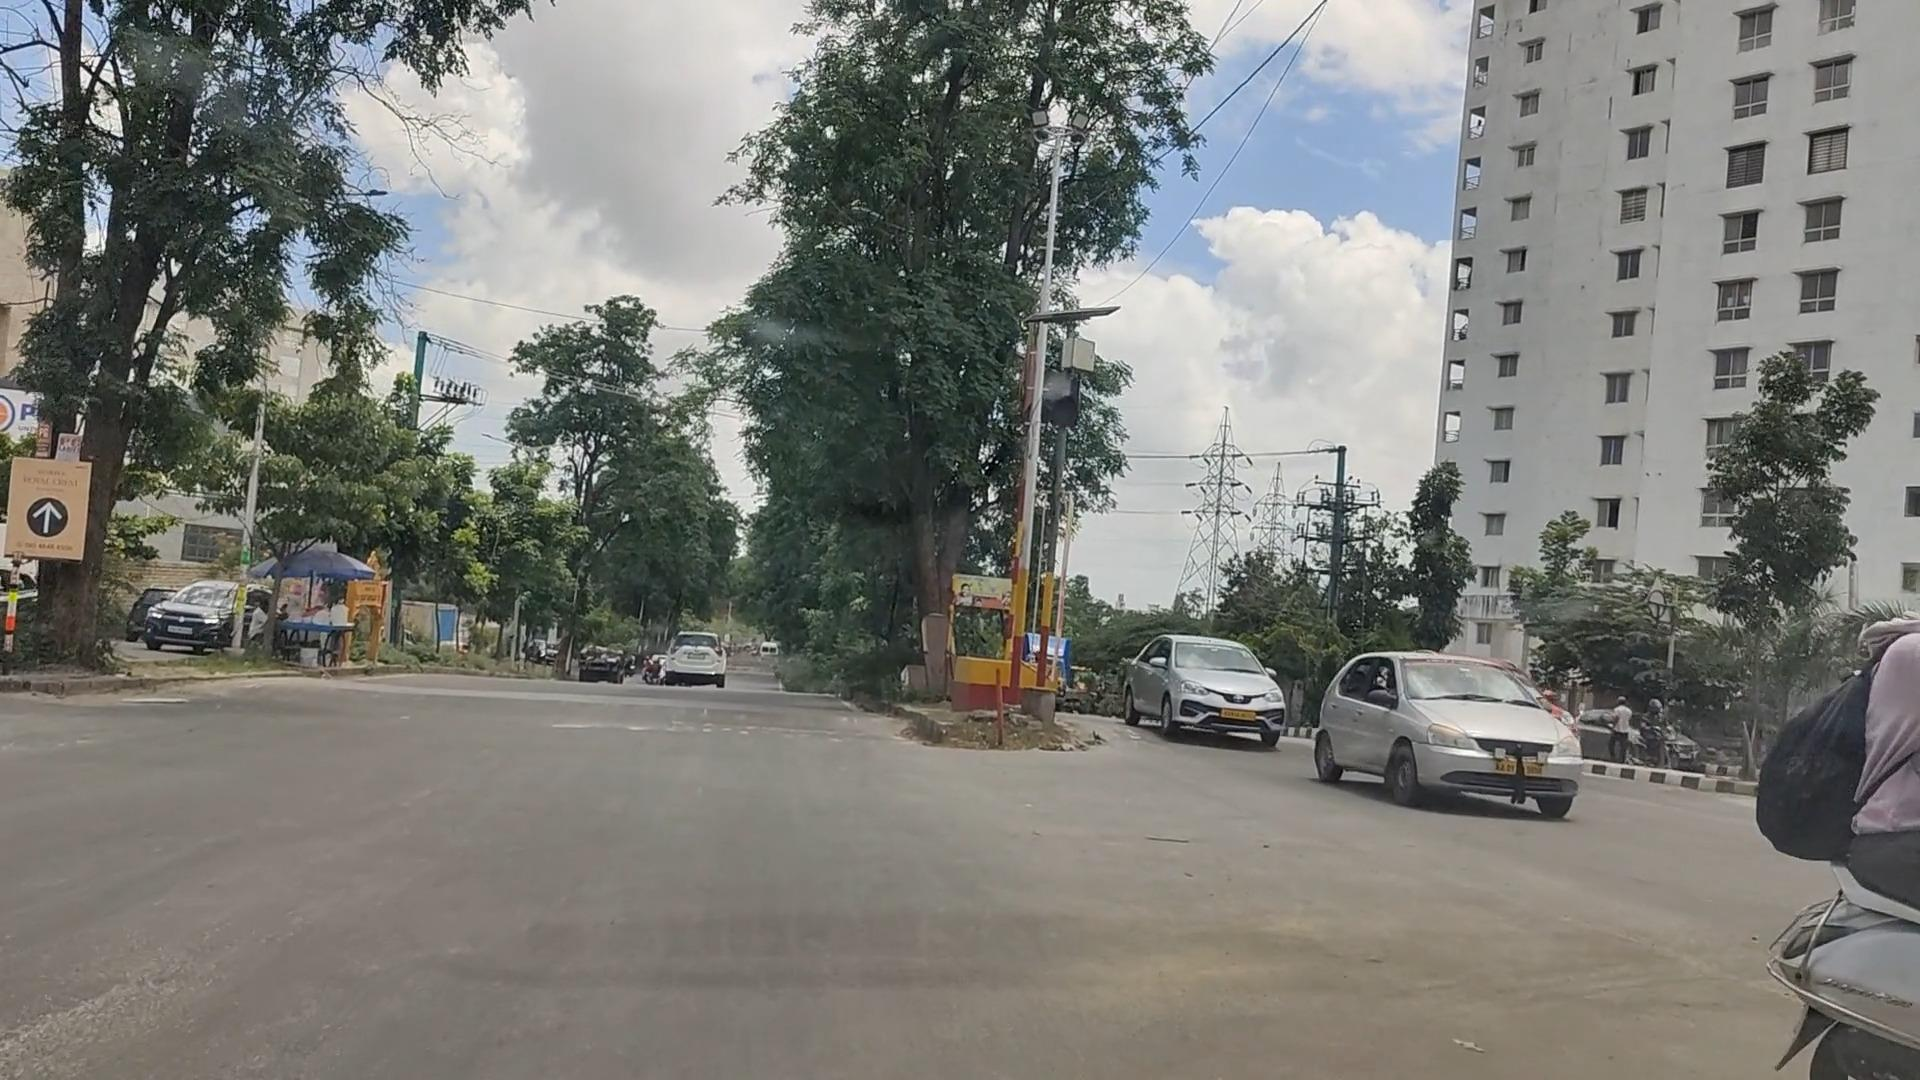LMV: (1321, 654, 1577, 814), (1117, 633, 1288, 753)
